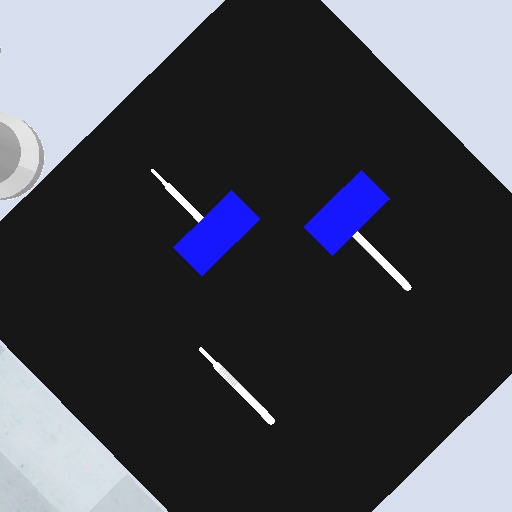bisturi: (196, 344, 279, 428), (350, 226, 414, 295), (148, 165, 207, 225)
